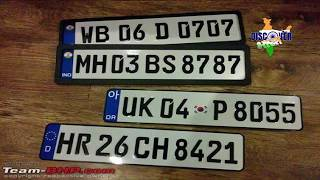number_plate: (39, 122, 246, 173), (104, 87, 302, 130), (55, 45, 252, 87), (59, 11, 247, 44)
